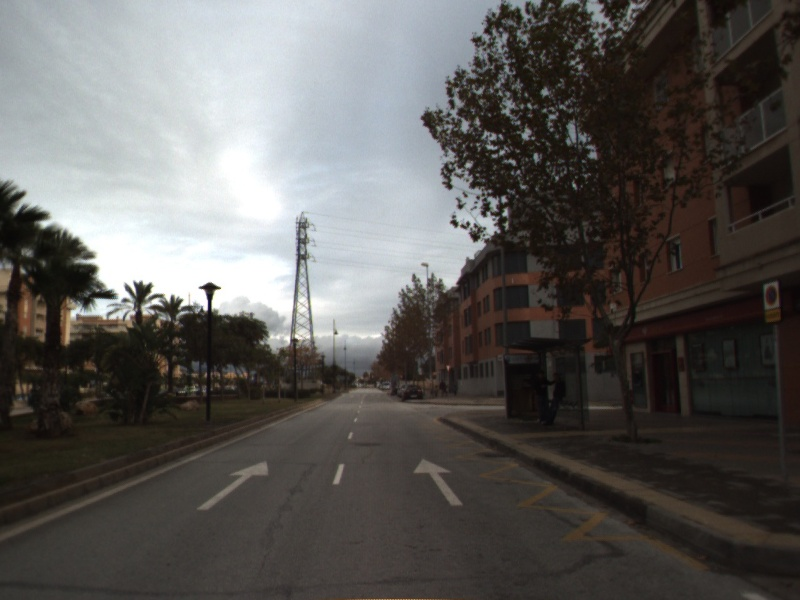STRAIGHT: (195, 459, 270, 512), (411, 457, 465, 507)
